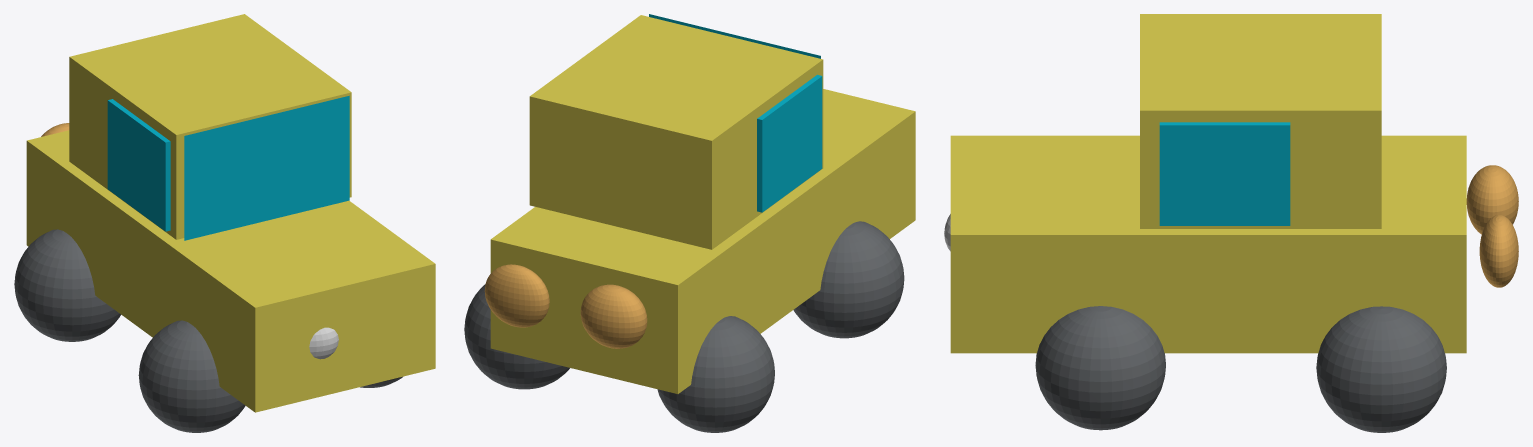
File: My Car.glb
The picture shows the model from 3 angles, left to right: view 1: azimuth 30°, elevation 25°; view 2: azimuth 150°, elevation 25°; view 3: azimuth 270°, elevation 25°; orthographic projection. The views are drawn at different scales.
Visible parts, largest first — view 1: Mesh_Mesh_head_geo.001_lambert2SG.001; view 2: Mesh_Mesh_head_geo.001_lambert2SG.001; view 3: Mesh_Mesh_head_geo.001_lambert2SG.001.
Boxes of the visible parts, left/top/right/bottom form: Mesh_Mesh_head_geo.001_lambert2SG.001: left=14, top=14, right=435, bottom=432; Mesh_Mesh_head_geo.001_lambert2SG.001: left=464, top=14, right=915, bottom=432; Mesh_Mesh_head_geo.001_lambert2SG.001: left=944, top=14, right=1518, bottom=432.
Size of the model in its own units: 56 by 53 by 87.98.
